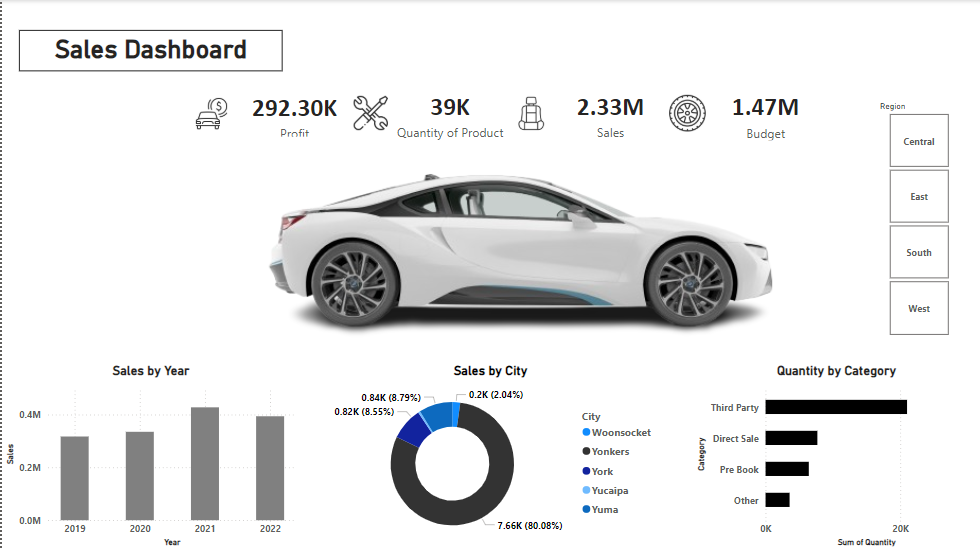

The dashboard page shown, as its layout file describes it:
{"tool":"powerbi","page":{"name":"Page 1","canvas":[1280,720],"ordinal":0},"visuals":[{"type":"image","box":[187.2,31.4,991,530.2],"z":0},{"type":"card","fields":{"Values":["Sum(Orders.Profit)"]},"box":[309.7,113,145.6,70.4],"z":1000,"group":"g1"},{"type":"columnChart","fields":{"Category":["Budget.Date.Variation.Date Hierarchy.Year","Budget.Date.Variation.Date Hierarchy.Quarter","Budget.Date.Variation.Date Hierarchy.Month","Budget.Date.Variation.Date Hierarchy.Day"],"Y":["Sum(Budget.Sales)"]},"box":[0,475.2,390.1,244.8],"z":1000},{"type":"card","fields":{"Values":["Sum(Orders.Sales)"]},"box":[725.8,105.6,140.5,85.1],"z":2000,"group":"g1"},{"type":"donutChart","title":"Sales by City","fields":{"Series":["Orders.City"],"Y":["Sum(Orders.Sales)"]},"box":[415,475.2,449,244.8],"z":2000},{"type":"card","fields":{"Values":["Sum(Orders.Quantity)"]},"box":[511.1,105.6,149.7,85.1],"z":3000,"group":"g1"},{"type":"clusteredBarChart","title":"Quantity by Category","fields":{"Category":["Orders.Category"],"Y":["Sum(Orders.Quantity)"]},"box":[904.6,475.2,375.7,244.8],"z":3000},{"type":"card","fields":{"Values":["Sum(Budget.Sales)"]},"box":[928.9,107.9,140.4,80.4],"z":4000,"group":"g1"},{"type":"group","id":"g1","title":"Group 1","box":[238.1,105.6,831.3,85.3],"z":4000},{"type":"image","box":[659.9,120.1,66.8,56.1],"z":5000,"group":"g1"},{"type":"slicer","fields":{"Values":["Orders.Region"]},"box":[1136.9,128,126.6,316.6],"z":5000},{"type":"image","box":[454.4,120.6,57.6,55.2],"z":6000,"group":"g1"},{"type":"image","box":[865.4,119.2,64.5,58],"z":7000,"group":"g1"},{"type":"textbox","box":[22,39.9,345.5,53.7],"z":7000},{"type":"image","box":[238.1,121.1,72.5,54.1],"z":8000,"group":"g1"}]}

Visuals, with their boxes in screenshot pixels (x1, y1, x2, y2), scaled from the page's 1280x720 canvas onto the 980x548 screenshot:
image: x1=143, y1=24, x2=902, y2=427
card - Sum(Orders.Profit): x1=237, y1=86, x2=349, y2=140
columnChart - Budget.Date.Variation.Date Hierarchy.Year x Budget.Date.Variation.Date Hierarchy.Quarter: x1=0, y1=362, x2=299, y2=547
card - Sum(Orders.Sales): x1=556, y1=80, x2=663, y2=145
"Sales by City" donutChart: x1=318, y1=362, x2=662, y2=547
card - Sum(Orders.Quantity): x1=391, y1=80, x2=506, y2=145
"Quantity by Category" clusteredBarChart: x1=693, y1=362, x2=979, y2=547
card - Sum(Budget.Sales): x1=711, y1=82, x2=819, y2=143
"Group 1" group: x1=182, y1=80, x2=819, y2=145
image: x1=505, y1=91, x2=556, y2=134
slicer - Orders.Region: x1=870, y1=97, x2=967, y2=338
image: x1=348, y1=92, x2=392, y2=134
image: x1=663, y1=91, x2=712, y2=135
textbox: x1=17, y1=30, x2=281, y2=71
image: x1=182, y1=92, x2=238, y2=133
